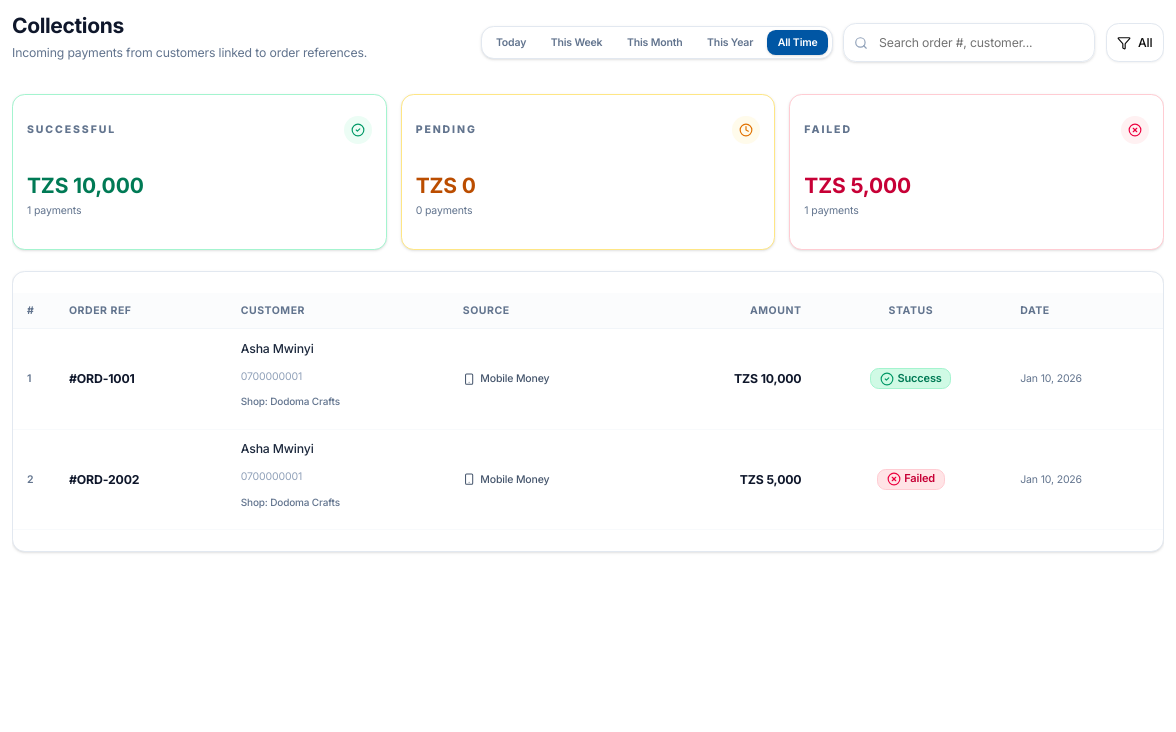
it: FinanceCollectionsTab › payment status filter › recalculates summary totals based on the filtered set
Click the button "All".
click(1135, 43)  # box [1106,23,1164,62]
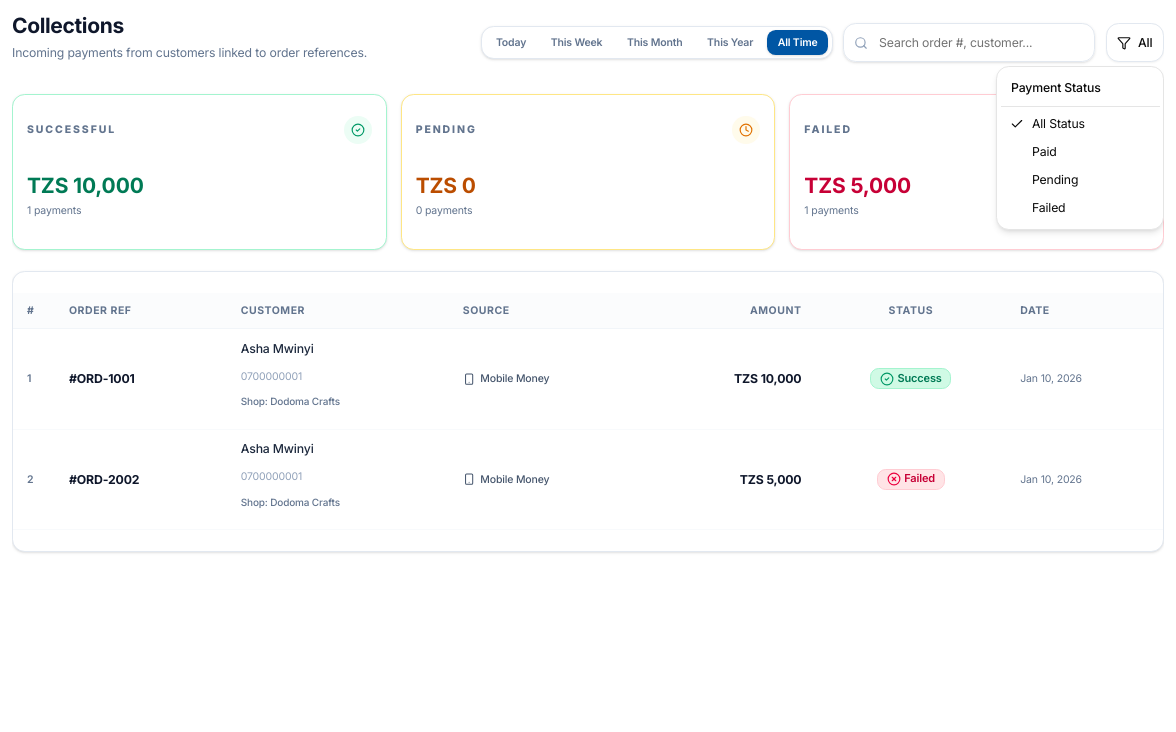
Click the menu item "Paid".
click(1044, 152)  # box [1032,144,1057,159]
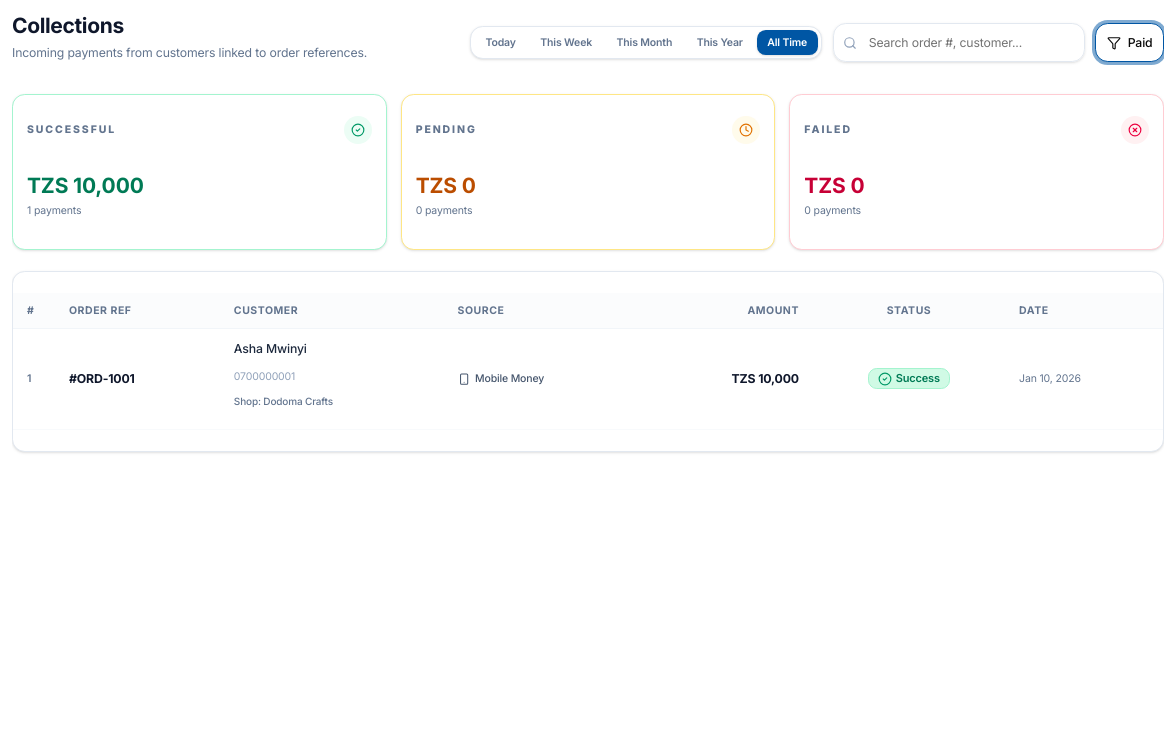
Expected: the text "TZS 10,000" is shown, [27,173,144,198]
Now the text "TZS 0" below "Failed" is shown, box [804,173,864,198]
